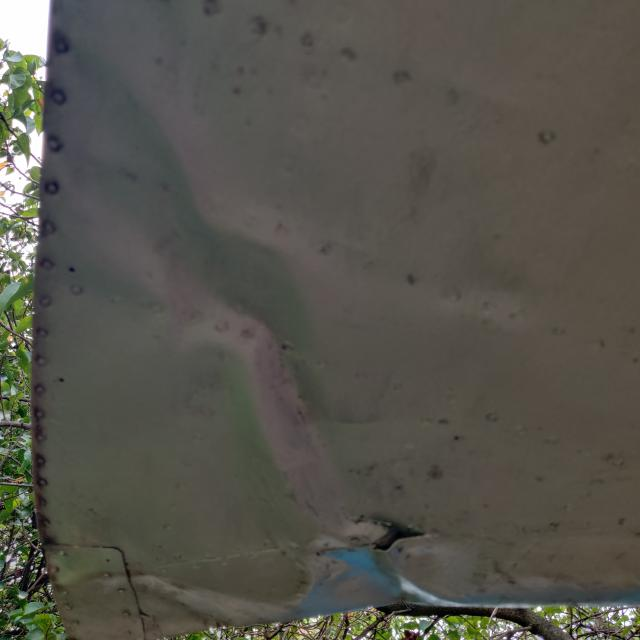Dent: (33, 29, 370, 517), (275, 502, 541, 630), (63, 558, 280, 640)
Rupture: (345, 506, 398, 544)
